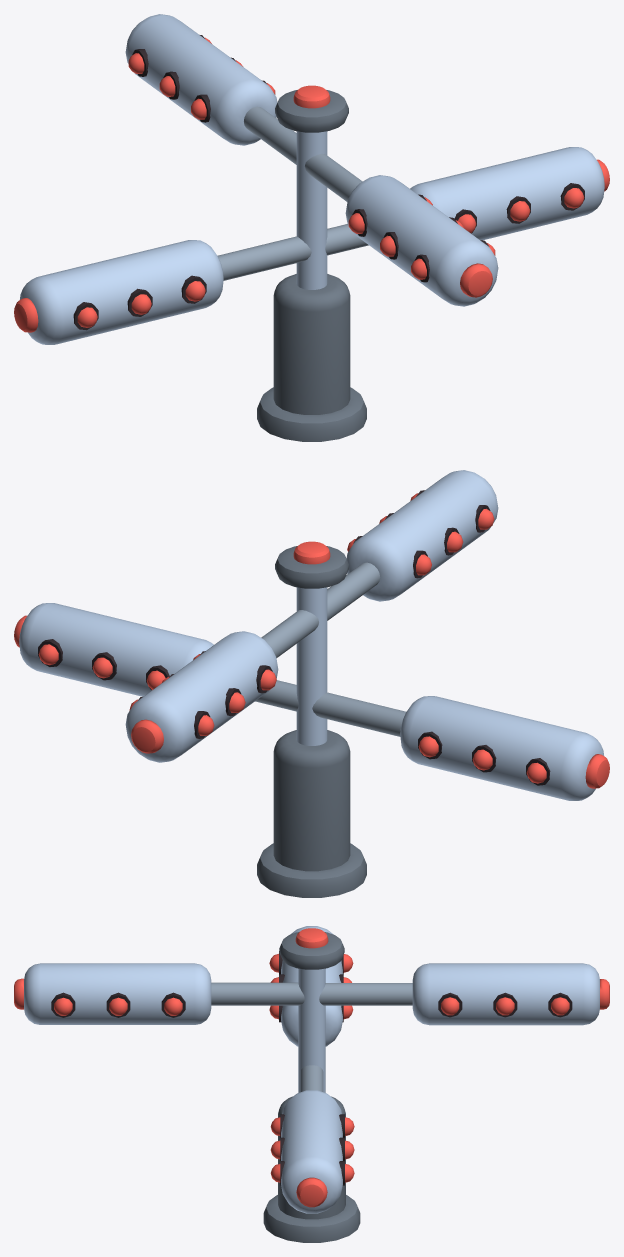
The model's file is RotationStick02.fbx.
3 renders of one model, top to bottom at view 1: azimuth 30°, elevation 25°; view 2: azimuth 150°, elevation 25°; view 3: azimuth 270°, elevation 25°, orthographic. The views are drawn at different scales.
Visible parts, largest first — view 1: RotationStick.001, RotationStick.002, Stick_Base.001; view 2: RotationStick.001, RotationStick.002, Stick_Base.001; view 3: RotationStick.002, RotationStick.001, Stick_Base.001.
Boxes of the visible parts, <box> form: RotationStick.001: <box>14,147,609,344</box>; RotationStick.002: <box>125,14,498,306</box>; Stick_Base.001: <box>257,85,366,441</box>; RotationStick.001: <box>14,603,609,800</box>; RotationStick.002: <box>125,470,498,762</box>; Stick_Base.001: <box>257,541,366,897</box>; RotationStick.002: <box>14,963,609,1025</box>; RotationStick.001: <box>269,926,354,1213</box>; Stick_Base.001: <box>263,928,360,1242</box>.
Size of the model in its own units: 536 by 288 by 536.
